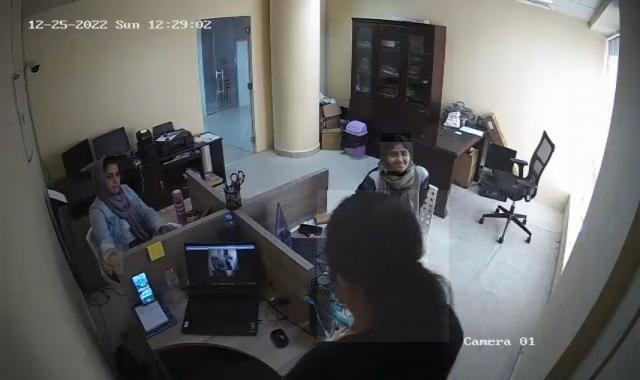no_apron: (154, 218, 183, 241), (102, 244, 124, 274)
no_gloves: (318, 189, 450, 342), (382, 133, 412, 176), (95, 151, 121, 195)
no_hairnet: (380, 142, 413, 172), (100, 160, 124, 196)
